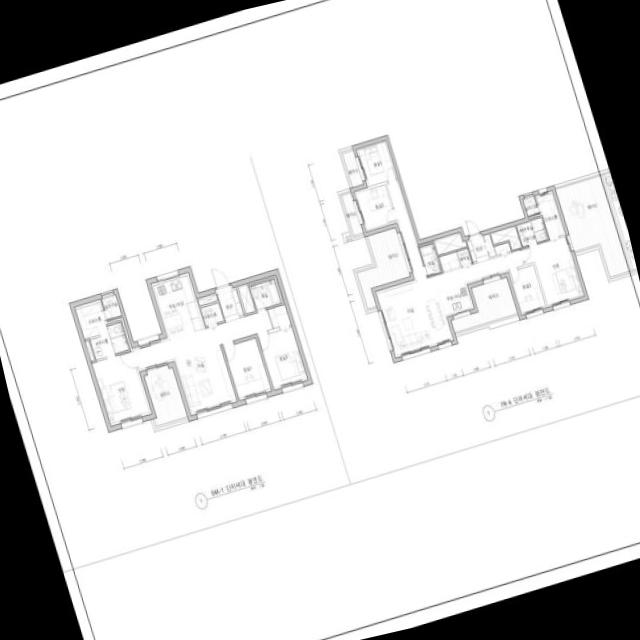background: (0, 0, 640, 640)
space_bedroom: (521, 235, 584, 306), (91, 351, 151, 425), (257, 304, 307, 389), (223, 337, 271, 400), (353, 184, 396, 231), (355, 139, 396, 186), (508, 264, 545, 314)
space_dressroom: (74, 298, 115, 359), (534, 190, 565, 238)
space_front: (214, 284, 244, 321), (466, 232, 495, 262)
space_kitchen: (150, 272, 205, 339), (422, 282, 473, 342)
space_living_room: (374, 180, 523, 357), (132, 309, 271, 415)
space_multipurpose_space: (200, 302, 223, 325)
space_other: (433, 231, 466, 254), (490, 225, 520, 249), (237, 283, 254, 313), (457, 247, 471, 265), (197, 293, 217, 305), (494, 241, 510, 254), (84, 340, 94, 360)
space_outdoor_room: (101, 294, 121, 319), (522, 196, 538, 215)
space_toilet: (515, 216, 547, 246), (249, 279, 280, 309), (418, 242, 441, 275), (110, 334, 128, 352), (106, 322, 123, 338)
